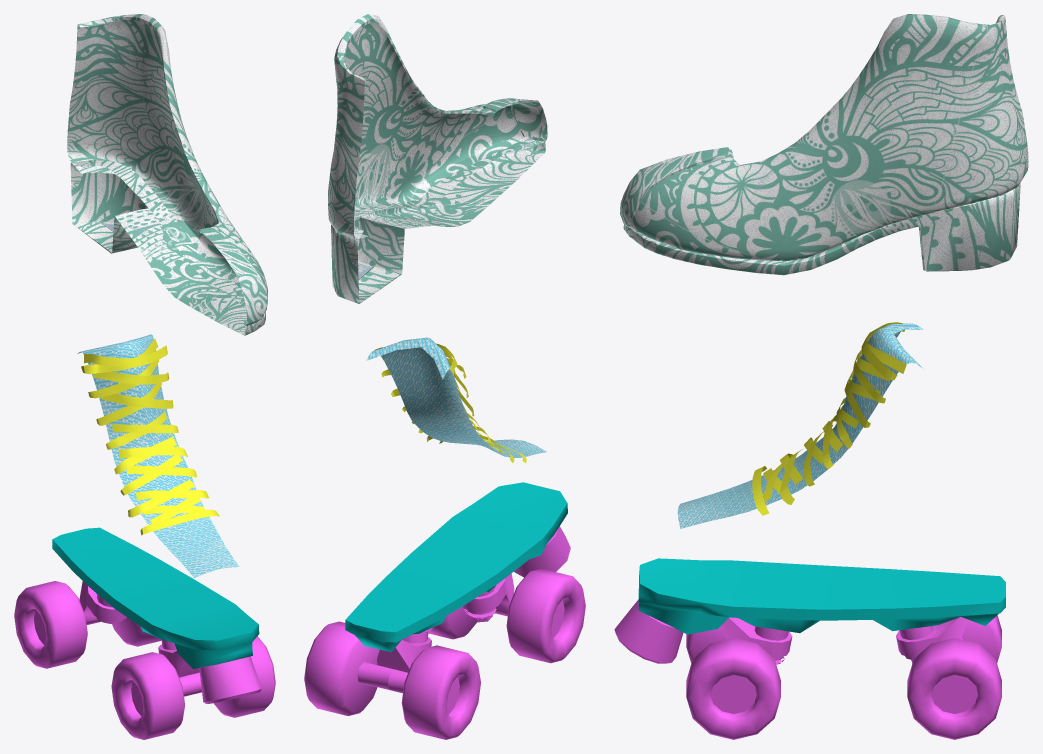
Rendered from skates.fbx.
3 views of the same model, side by side, from view 1: azimuth 30°, elevation 25°; view 2: azimuth 150°, elevation 25°; view 3: azimuth 270°, elevation 25° (orthographic). The views are drawn at different scales.
Visible parts, largest first — view 1: G_334_3347863_seamless_texture_abstract_2_1_1, Group3, Group9, Group1, Group5, Group6, Group4, Group7, Group8; view 2: G_334_3347863_seamless_texture_abstract_2_1_1, Group3, Group1, Group6, Group5, Group8, Group4, Group9, Group7; view 3: G_334_3347863_seamless_texture_abstract_2_1_1, Group3, Group7, Group8, Group1, Group4, Group9, Group6, Group5.
Part boxes in pixels (box(x1,y1,x2,y2)): G_334_3347863_seamless_texture_abstract_2_1_1: box(67, 14, 267, 335); Group3: box(52, 527, 259, 668); Group9: box(81, 338, 219, 535); Group1: box(77, 334, 239, 577); Group5: box(111, 652, 184, 739); Group6: box(14, 581, 87, 668); Group4: box(79, 581, 261, 703); Group7: box(213, 636, 275, 717); Group8: box(112, 617, 161, 646); G_334_3347863_seamless_texture_abstract_2_1_1: box(328, 14, 547, 303); Group3: box(345, 482, 567, 652); Group1: box(366, 337, 546, 457); Group6: box(401, 645, 480, 739); Group5: box(506, 568, 585, 663); Group8: box(304, 621, 379, 715); Group4: box(357, 526, 570, 693); Group9: box(375, 343, 526, 462); Group7: box(428, 606, 476, 639); G_334_3347863_seamless_texture_abstract_2_1_1: box(620, 14, 1028, 275); Group3: box(638, 558, 1005, 634); Group7: box(686, 638, 780, 739); Group8: box(907, 638, 1001, 739); Group1: box(677, 323, 923, 528); Group4: box(614, 599, 967, 664); Group9: box(752, 322, 906, 515); Group6: box(911, 615, 1001, 663); Group5: box(686, 625, 726, 662).
Size of the model in its own units: 98.97 by 471 by 246.
